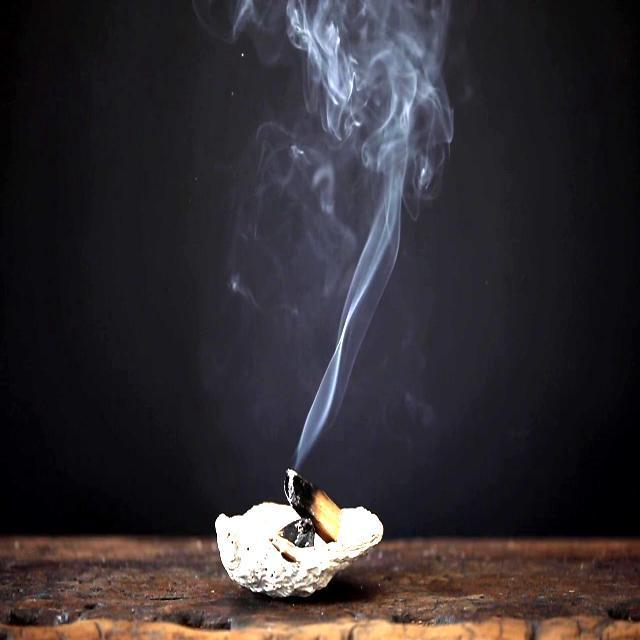Smoke: (264, 0, 473, 205), (293, 224, 409, 458)
